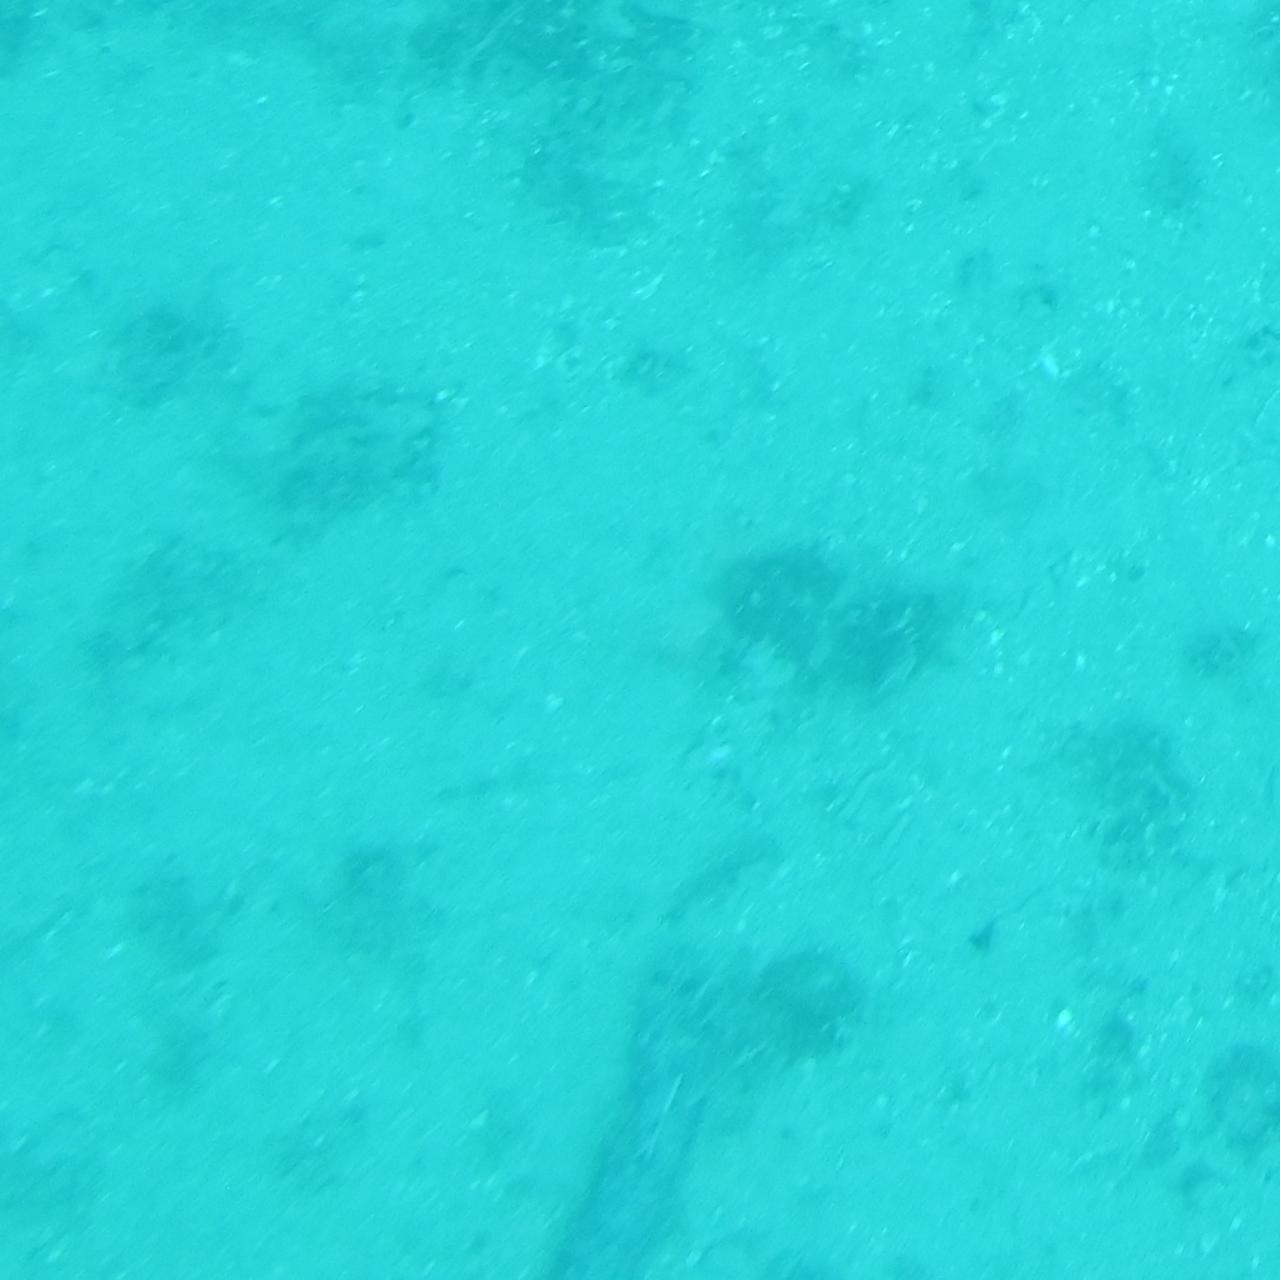Holothuria tubulosa: (538, 965, 742, 1279)
